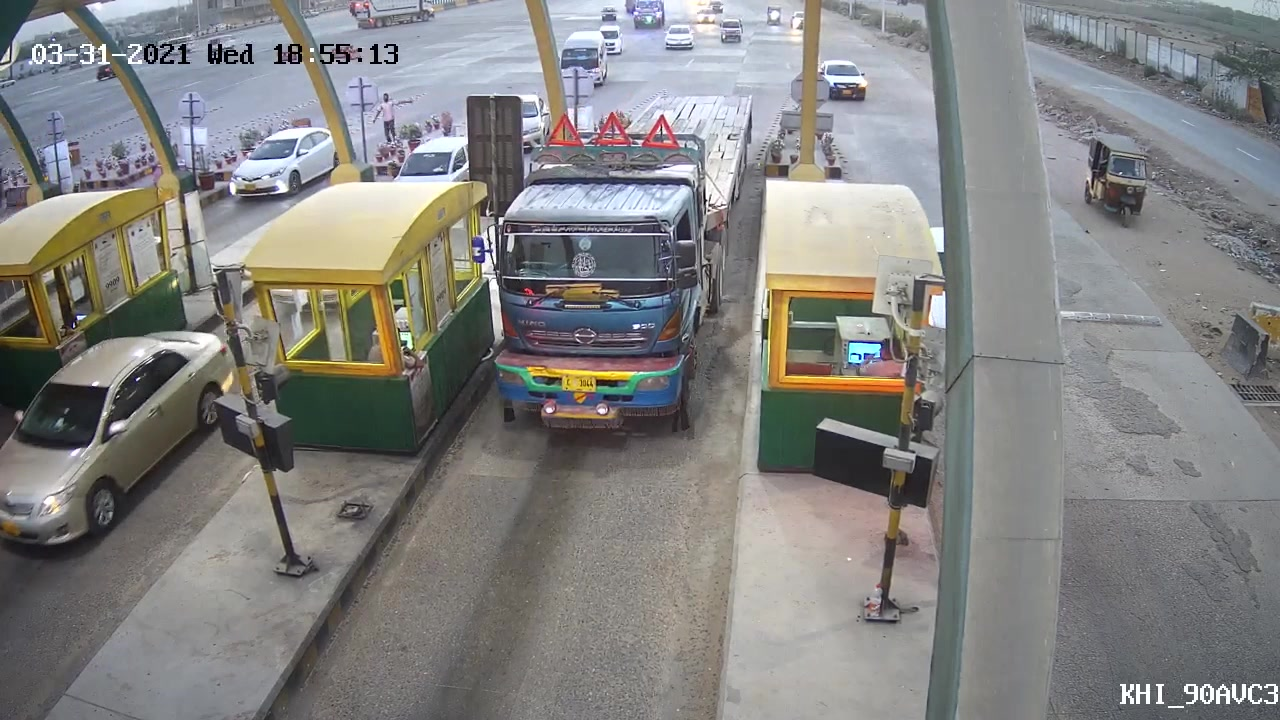F6: (467, 94, 748, 434)
